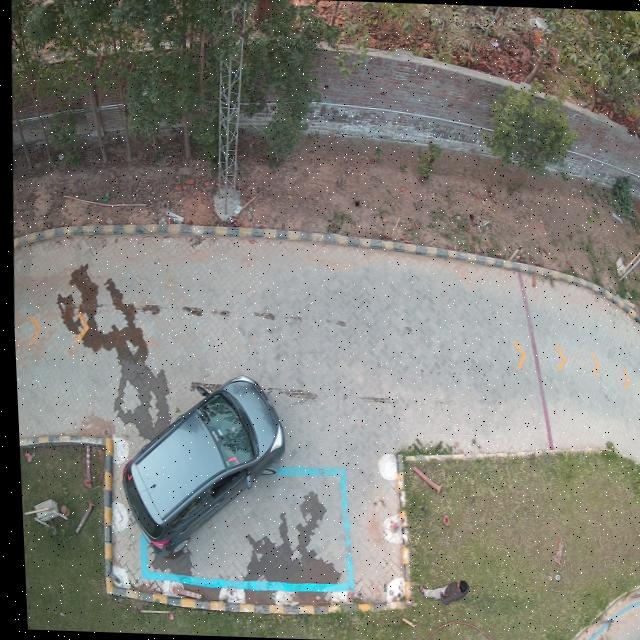car: (119, 375, 280, 556)
